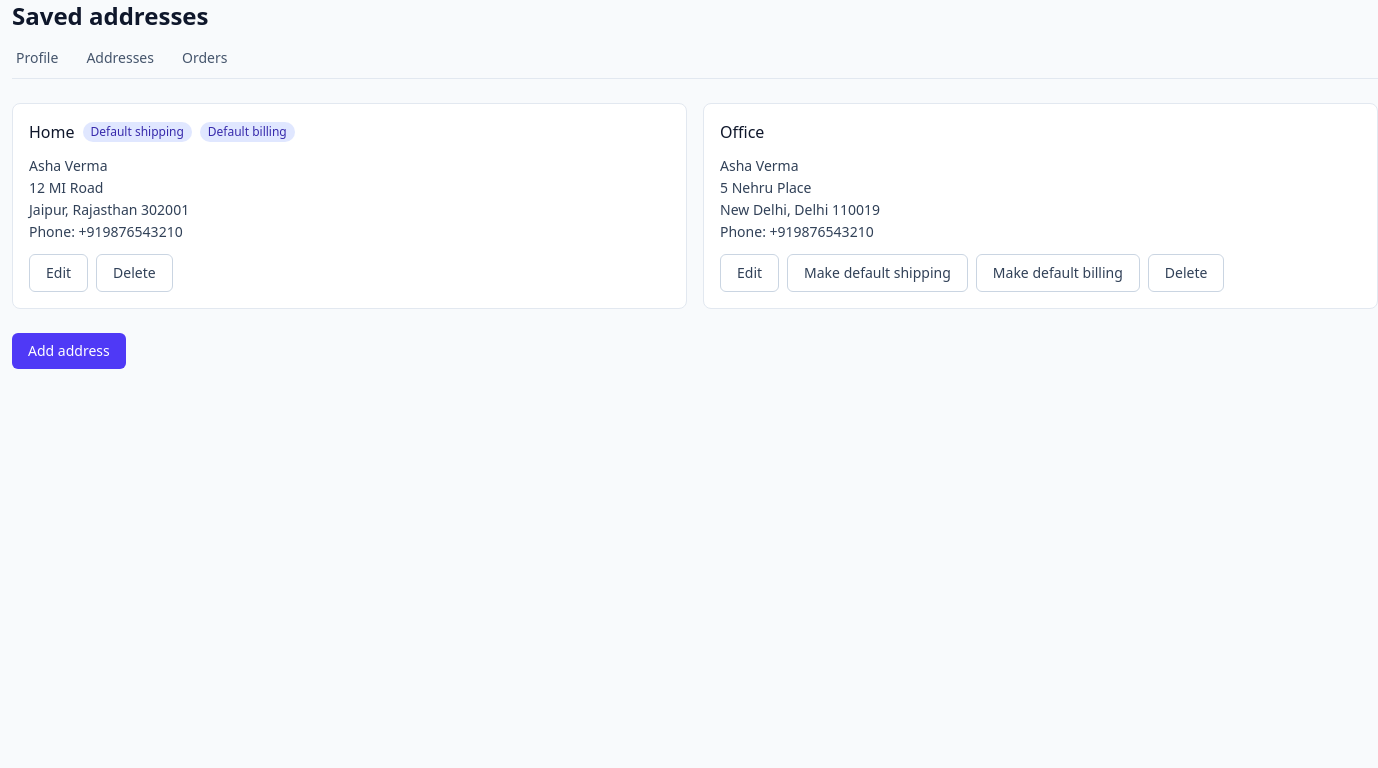
Scenario: AddressesPage › does not send an incomplete address and shows what is missing
The image size is (1378, 768).
Click the button "Add address". click: (69, 351)
box: [12,333,126,369]
(page scrolled)
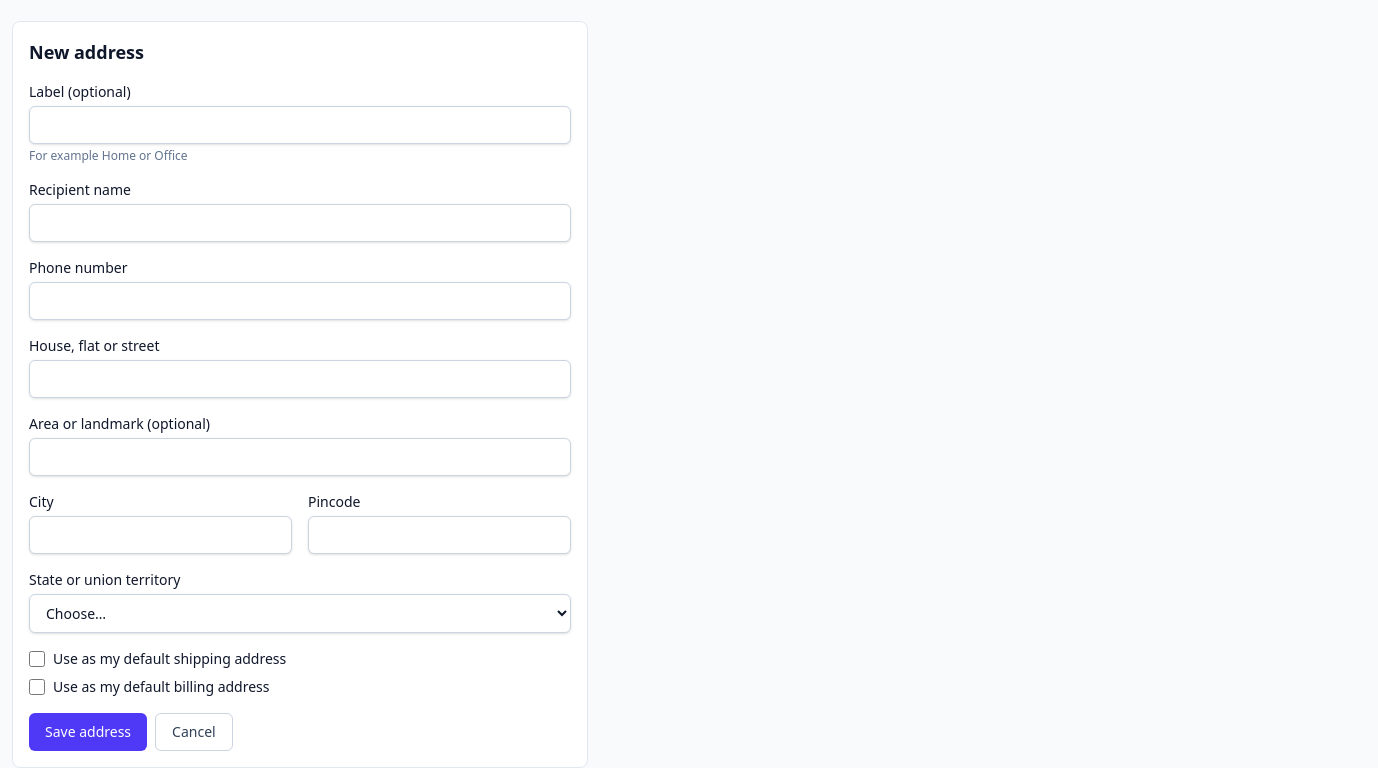
Click the button "Save address". click: (88, 732)
box: [29,713,147,751]
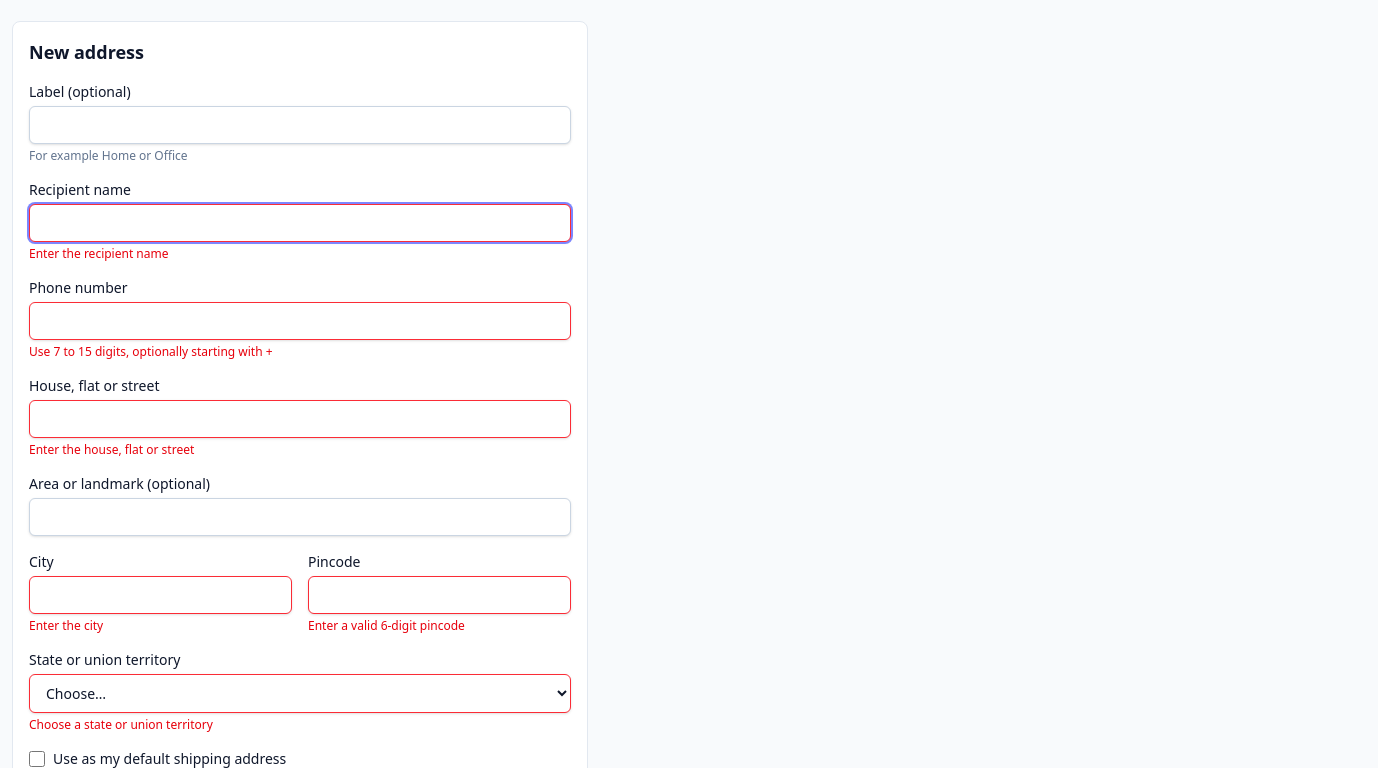
Now the text "Enter the recipient name" is shown, box [29,245,168,262]
Now the text "Enter a valid 6-digit pincode" is shown, box [308,617,465,634]
Now the text "Choose a state or union territory" is shown, box [29,716,213,733]
